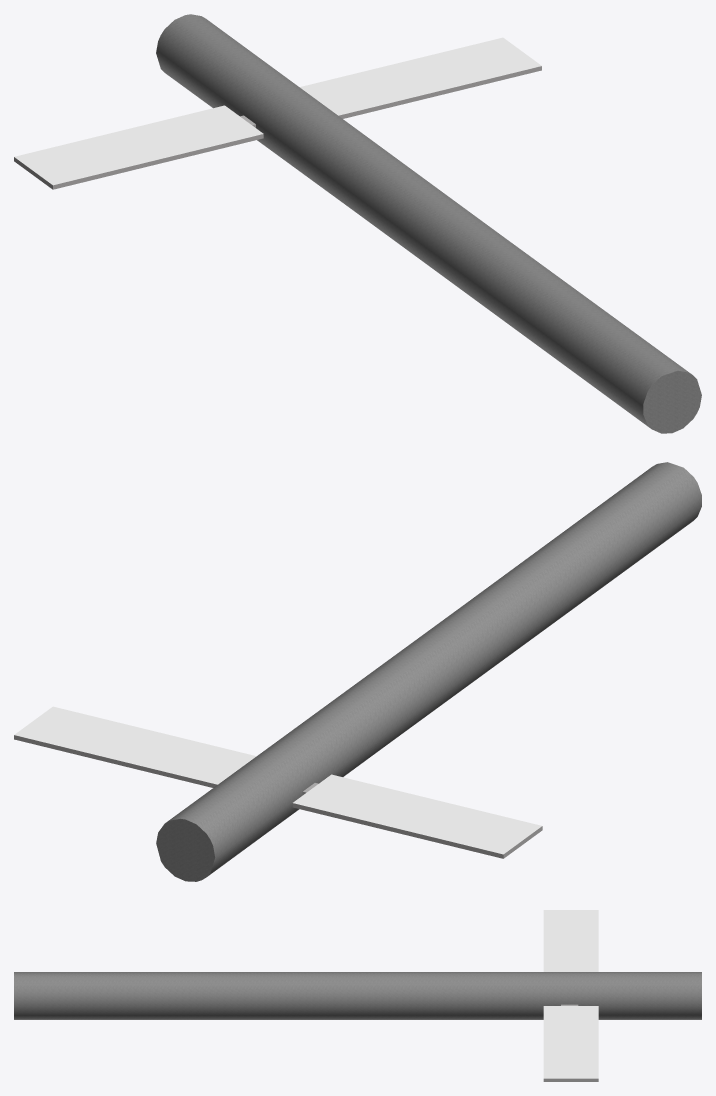
The model's file is rocket-v0.1.glb.
3 renders of one model, top to bottom at view 1: azimuth 30°, elevation 25°; view 2: azimuth 150°, elevation 25°; view 3: azimuth 270°, elevation 25°, orthographic. The views are drawn at different scales.
Visible parts, largest first — view 1: Body1, Body2; view 2: Body1, Body2; view 3: Body1, Body2.
Boxes of the visible parts, bbox=[...] form: Body1: bbox=[156, 14, 701, 433]; Body2: bbox=[14, 37, 541, 189]; Body1: bbox=[156, 462, 701, 881]; Body2: bbox=[14, 706, 542, 858]; Body1: bbox=[14, 972, 701, 1019]; Body2: bbox=[543, 910, 598, 1081].
Bounding box in the file's own units: 58 × 7 × 100.
3 materials, 1 textured.
